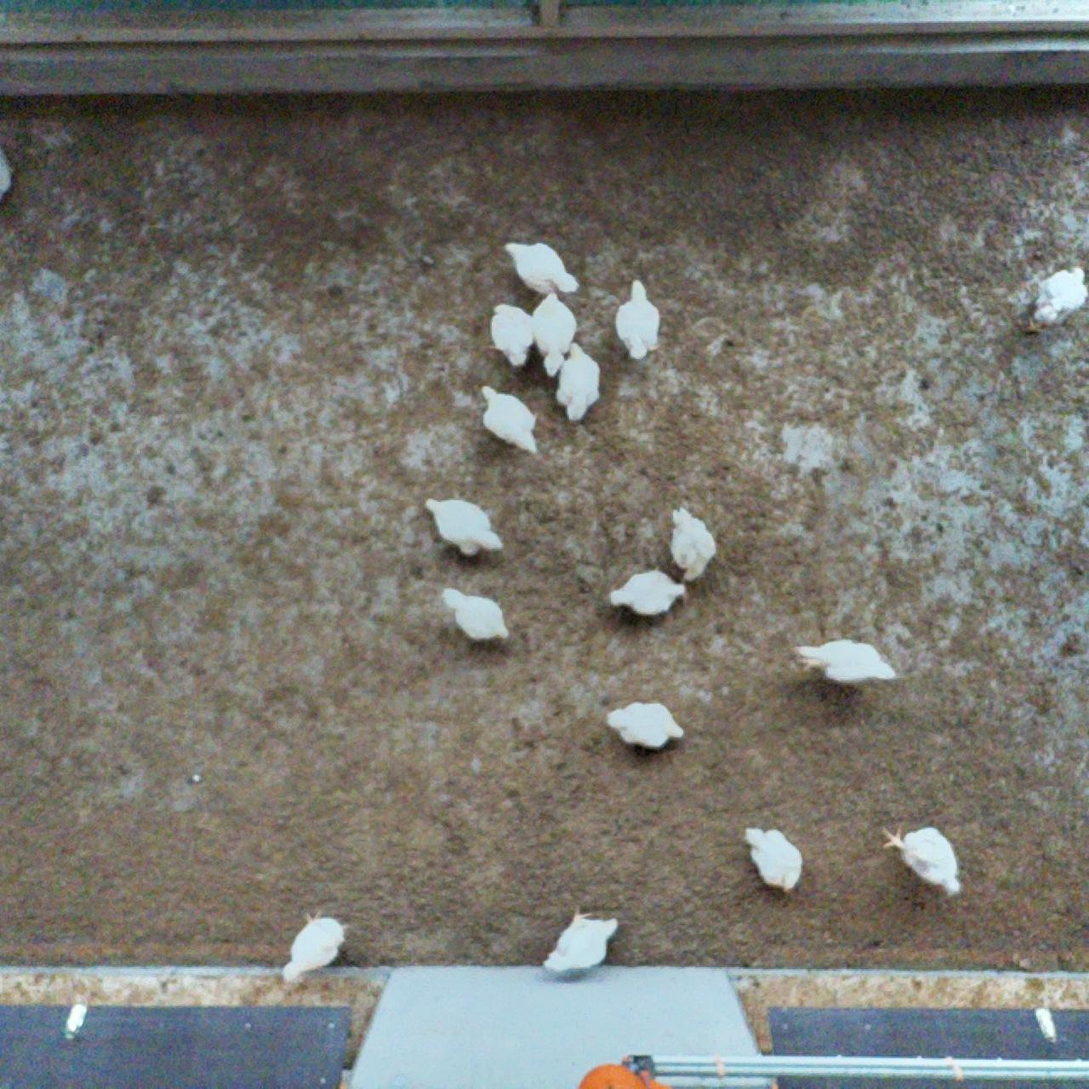chicken: (878, 824, 964, 898), (277, 903, 350, 985), (420, 491, 506, 559), (789, 634, 899, 685), (541, 904, 620, 975), (477, 379, 541, 456), (1019, 265, 1089, 334), (504, 234, 577, 298), (439, 583, 512, 647), (528, 286, 579, 376), (607, 564, 690, 619), (741, 822, 804, 894), (613, 275, 663, 358), (604, 698, 684, 749), (669, 499, 718, 582), (554, 338, 602, 420), (486, 300, 539, 372), (0, 133, 18, 215)
